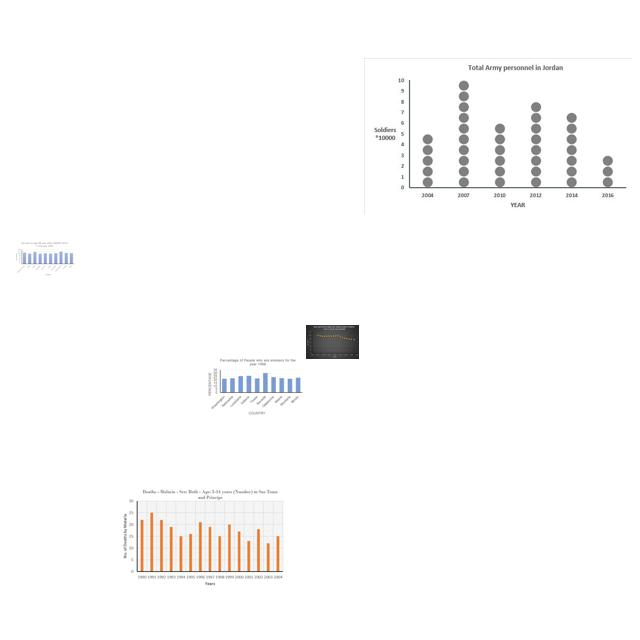Graph: (364, 58, 632, 215), (116, 485, 286, 587), (206, 357, 305, 417), (14, 241, 75, 277), (306, 325, 359, 359)
